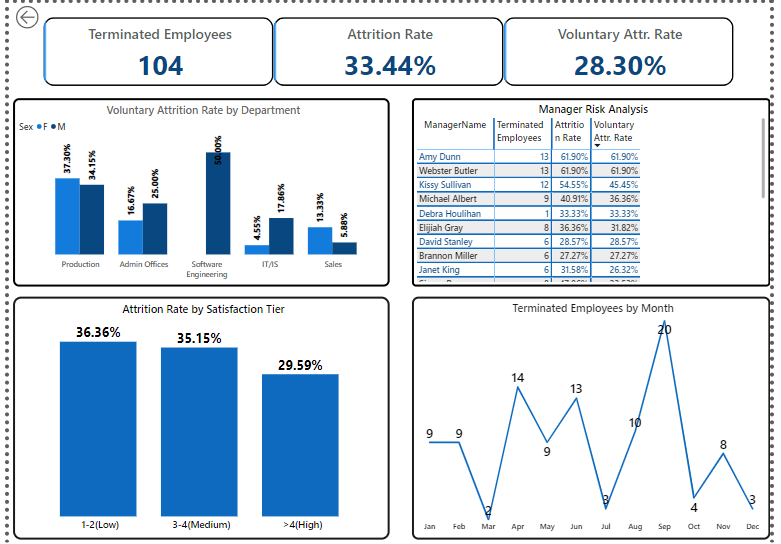

This screenshot's page, from the dashboard's own definition file:
{"tool":"powerbi","page":{"name":"Attrition Analysis","canvas":[1880,1464],"ordinal":1},"visuals":[{"type":"cardVisual","fields":{"Data":["measure_table.Terminated Employees","measure_table.Attrition Rate","measure_table.Voluntary Attr. Rate"]},"box":[80,30,1715,180],"z":0},{"type":"clusteredColumnChart","title":"Voluntary Attrition Rate by Department","fields":{"Category":["Dim_Department.Department"],"Series":["Dim_Employees.Sex"],"Y":["measure_table.Voluntary Attr. Rate"]},"box":[10,235,930,465],"z":1000},{"type":"pivotTable","title":"Manager Risk Analysis","fields":{"Rows":["Dim_Manager.ManagerName"],"Values":["measure_table.Terminated Employees","measure_table.Attrition Rate","measure_table.Voluntary Attr. Rate"]},"box":[995,235,885,465],"z":2000},{"type":"actionButton","box":[10,0,70,70],"z":3000},{"type":"clusteredColumnChart","fields":{"Category":["Dim_Employees.Satisfaction Tier"],"Y":["measure_table.Attrition Rate"]},"box":[10,725,930,600],"z":4000},{"type":"lineChart","title":"Terminated Employees by Month","fields":{"Category":["Calendar.Month Name"],"Y":["measure_table.Terminated Employees"]},"box":[995,725,885,600],"z":5000},{"type":"pageNavigator","box":[405,1360,535,100],"z":7000}]}

Visuals, with their boxes on the page's 1880x1464 design canvas (x1, y1, x2, y2). These are canvas units, not pixel positions in the 781x544 screenshot, which may show the page scaled, cropped or inside an application window:
cardVisual - measure_table.Terminated Employees x measure_table.Attrition Rate: 80:30:1795:210
"Voluntary Attrition Rate by Department" clusteredColumnChart: 10:235:940:700
"Manager Risk Analysis" pivotTable: 995:235:1880:700
actionButton: 10:0:80:70
clusteredColumnChart - Dim_Employees.Satisfaction Tier x measure_table.Attrition Rate: 10:725:940:1325
"Terminated Employees by Month" lineChart: 995:725:1880:1325
pageNavigator: 405:1360:940:1460
